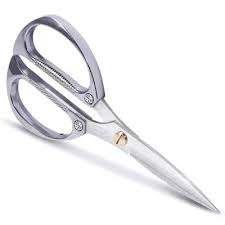tihiras: (7, 9, 220, 219)
